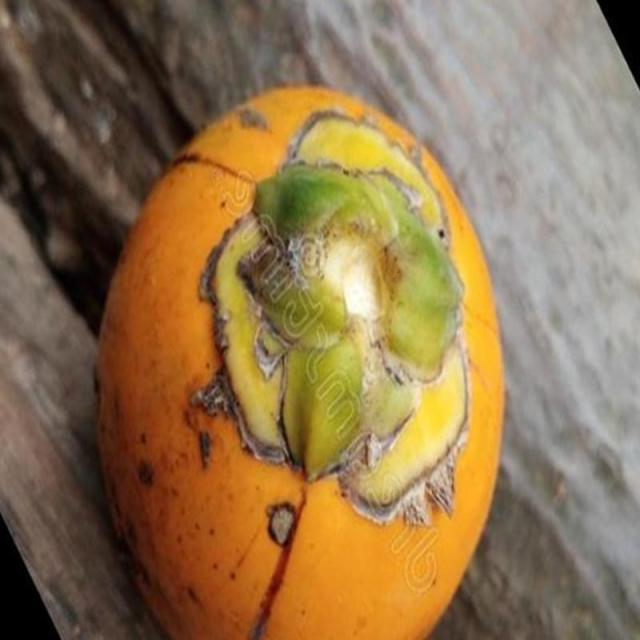good: (92, 86, 506, 639)
